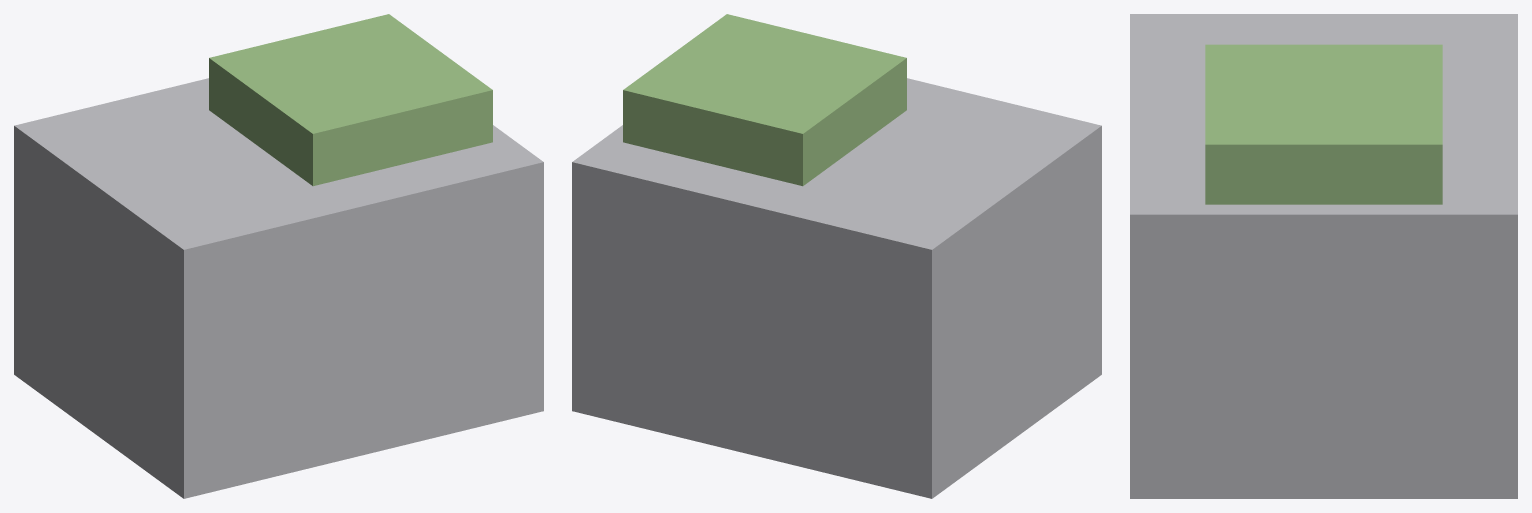
File: Prop_Dress_AMF_Rock_V8.glb
3 views of the same model, side by side, from view 1: azimuth 30°, elevation 25°; view 2: azimuth 150°, elevation 25°; view 3: azimuth 270°, elevation 25° (orthographic). The views are drawn at different scales.
Parts seen in each view (by area): view 1: Prop_Dress_AMF_Rock_V8; view 2: Prop_Dress_AMF_Rock_V8; view 3: Prop_Dress_AMF_Rock_V8.
Boxes of the visible parts, left/top/right/bottom form: Prop_Dress_AMF_Rock_V8: left=14, top=14, right=543, bottom=498; Prop_Dress_AMF_Rock_V8: left=572, top=14, right=1101, bottom=498; Prop_Dress_AMF_Rock_V8: left=1130, top=14, right=1517, bottom=498.
Size of the model in its own units: 0.618 by 0.4944 by 0.5048.
